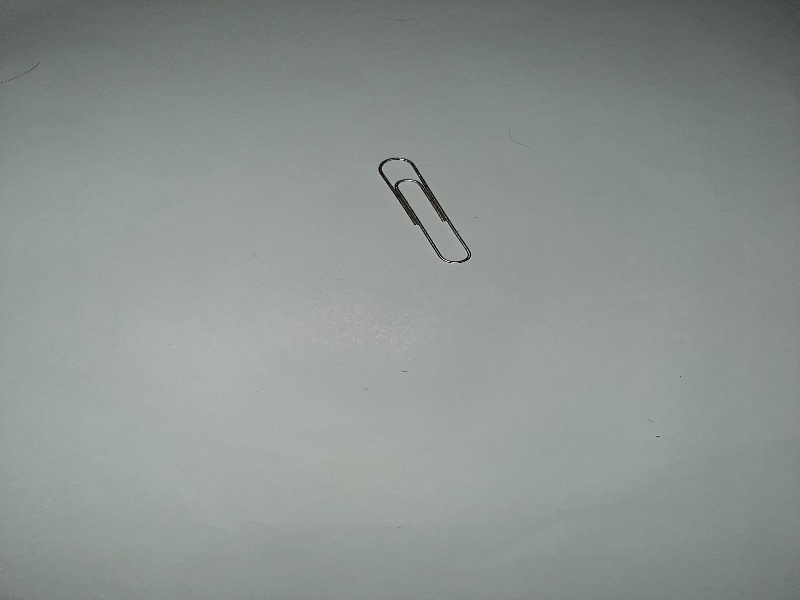Big Jumpclip: (376, 154, 474, 271)
